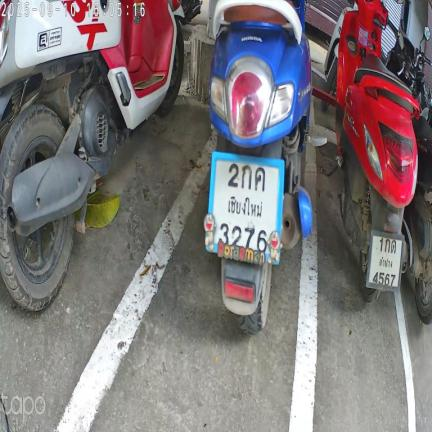1: (379, 236, 384, 252)
2: (230, 223, 244, 247), (226, 163, 238, 188)
3: (216, 222, 231, 246)
4: (372, 271, 378, 284)
5: (379, 272, 384, 285)
6: (254, 227, 270, 253), (385, 273, 390, 285)
7: (242, 226, 257, 250), (391, 274, 396, 287)
A01: (241, 164, 252, 191), (385, 238, 391, 253)
A04: (254, 166, 267, 193)
A20: (391, 238, 396, 254)
CMI: (223, 194, 265, 220)
LPG: (377, 254, 396, 268)
